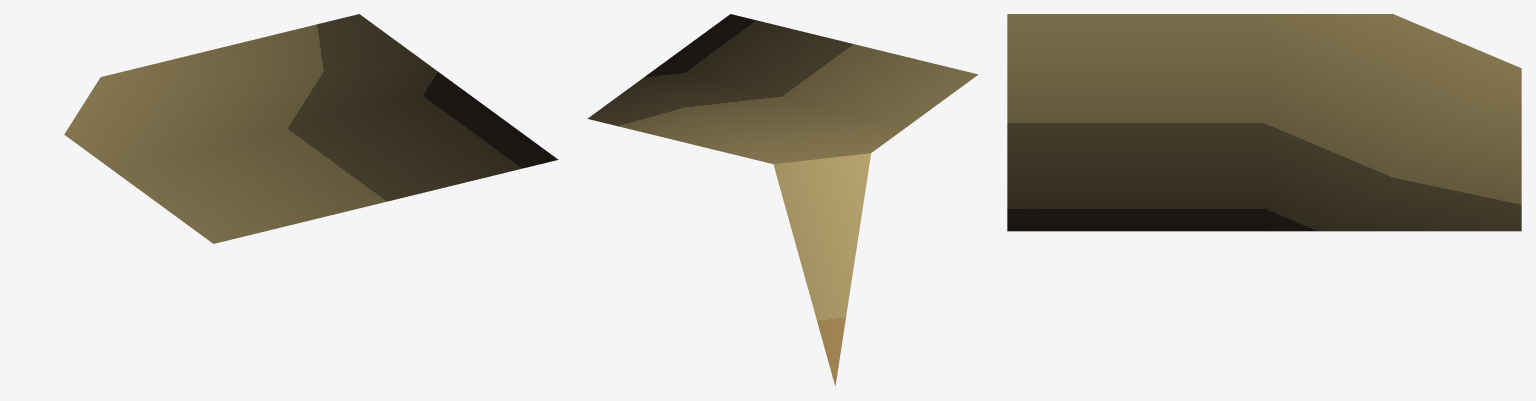
3 renders of one model, left to right at view 1: azimuth 30°, elevation 25°; view 2: azimuth 150°, elevation 25°; view 3: azimuth 270°, elevation 25°, orthographic. The views are drawn at different scales.
Bounding box in the file's own units: 1 × 0.7998 × 1.
Materials: 2 (2 with a texture image).
